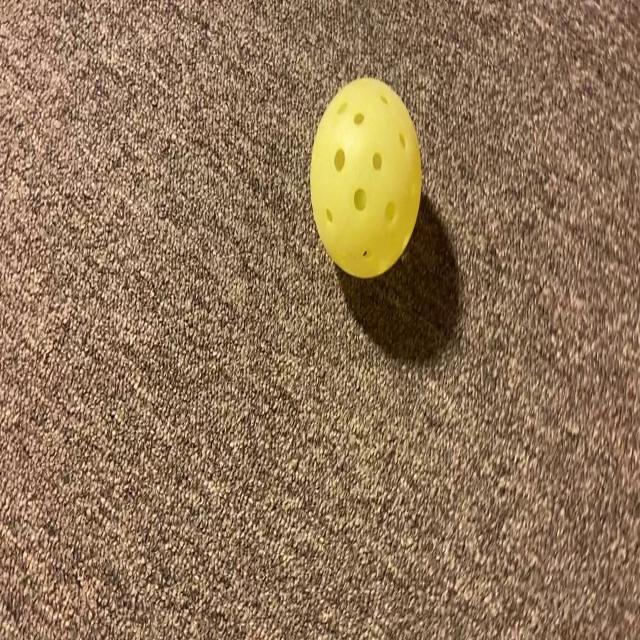ball: (302, 74, 437, 290)
